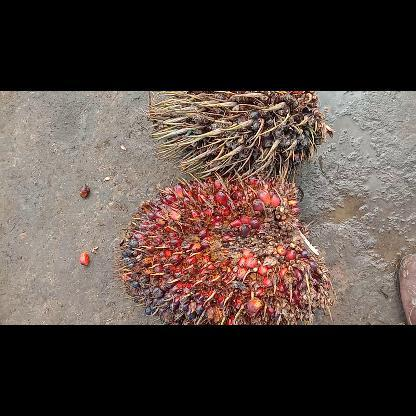TBS abnormal: (147, 90, 333, 180)
TBS masak: (113, 174, 335, 324)
